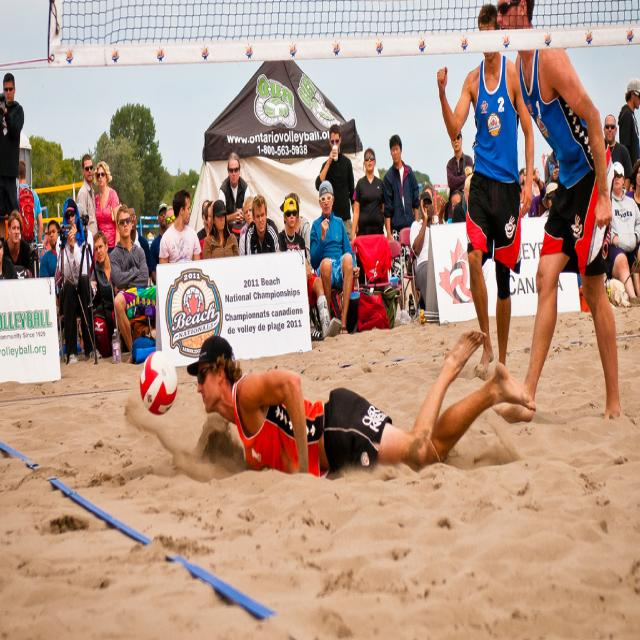Person: (0, 1, 640, 478)
